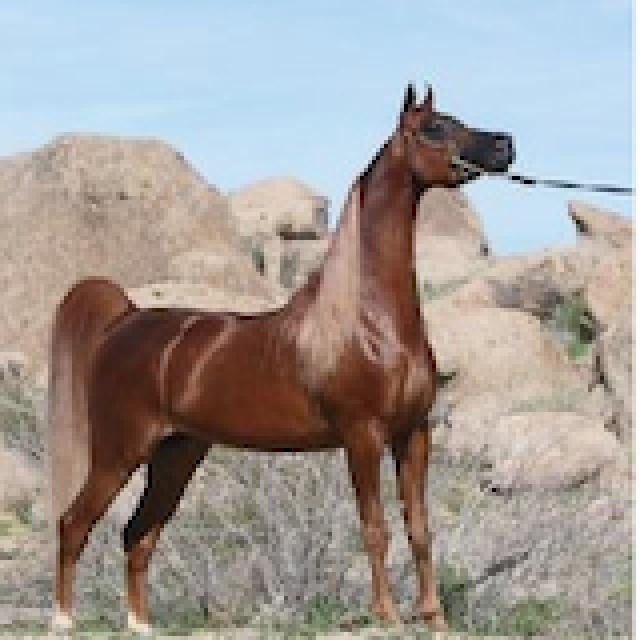Horse: (36, 76, 520, 636)
